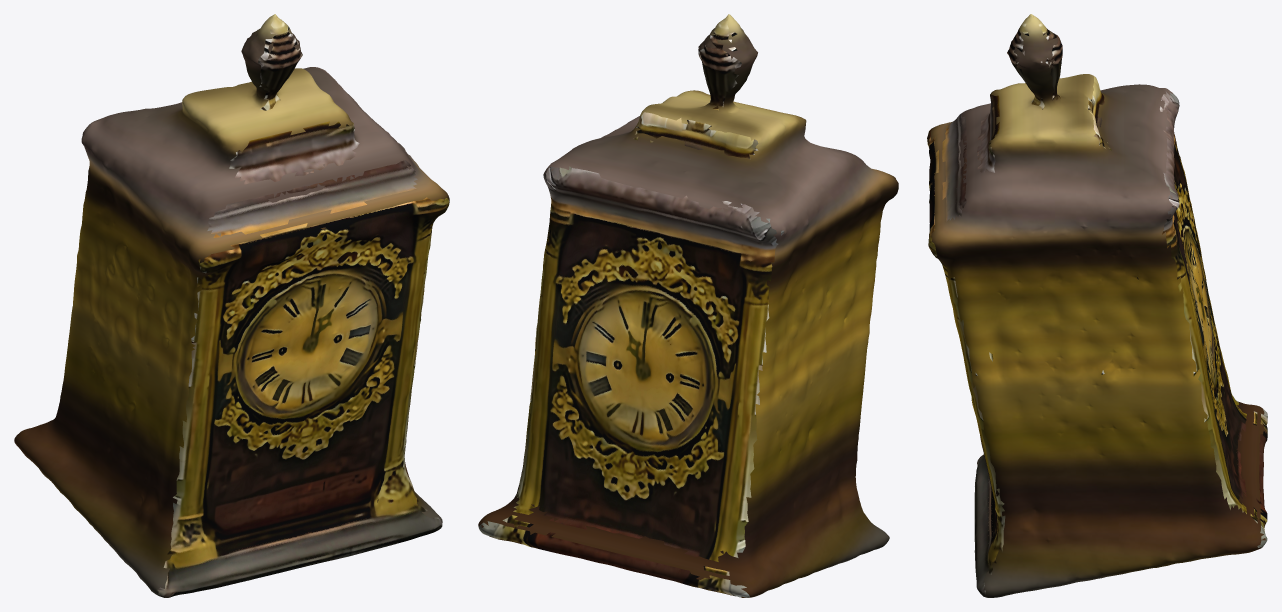
The model's file is kfl-2140.glb.
3 views of the same model, side by side, from view 1: azimuth 30°, elevation 25°; view 2: azimuth 150°, elevation 25°; view 3: azimuth 270°, elevation 25° (orthographic). The views are drawn at different scales.
Visible parts, largest first — view 1: kfl-2140; view 2: kfl-2140; view 3: kfl-2140.
Part boxes in pixels (left/top/right/bottom): kfl-2140: left=14, top=14, right=449, bottom=597; kfl-2140: left=478, top=14, right=898, bottom=597; kfl-2140: left=927, top=14, right=1267, bottom=597.
Bounding box in the file's own units: 0.5581 × 0.9897 × 0.5866.
4 materials, 4 textured.
